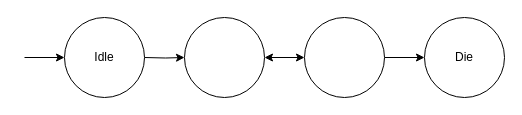
This 522x115 diagram has some shape labels left out. The shapes that lost their labels are listed below. From the top down, each one's centre as x and y in pixels, then its label:
(224,57): Move
(344,57): Hurt
